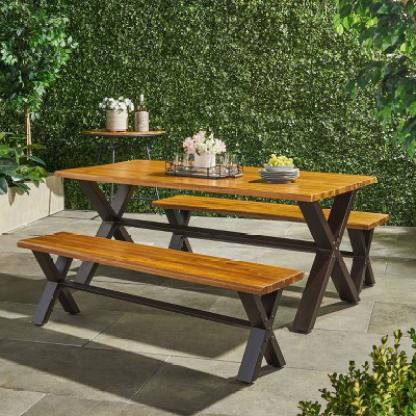table: (13, 156, 393, 387), (84, 124, 173, 220)
